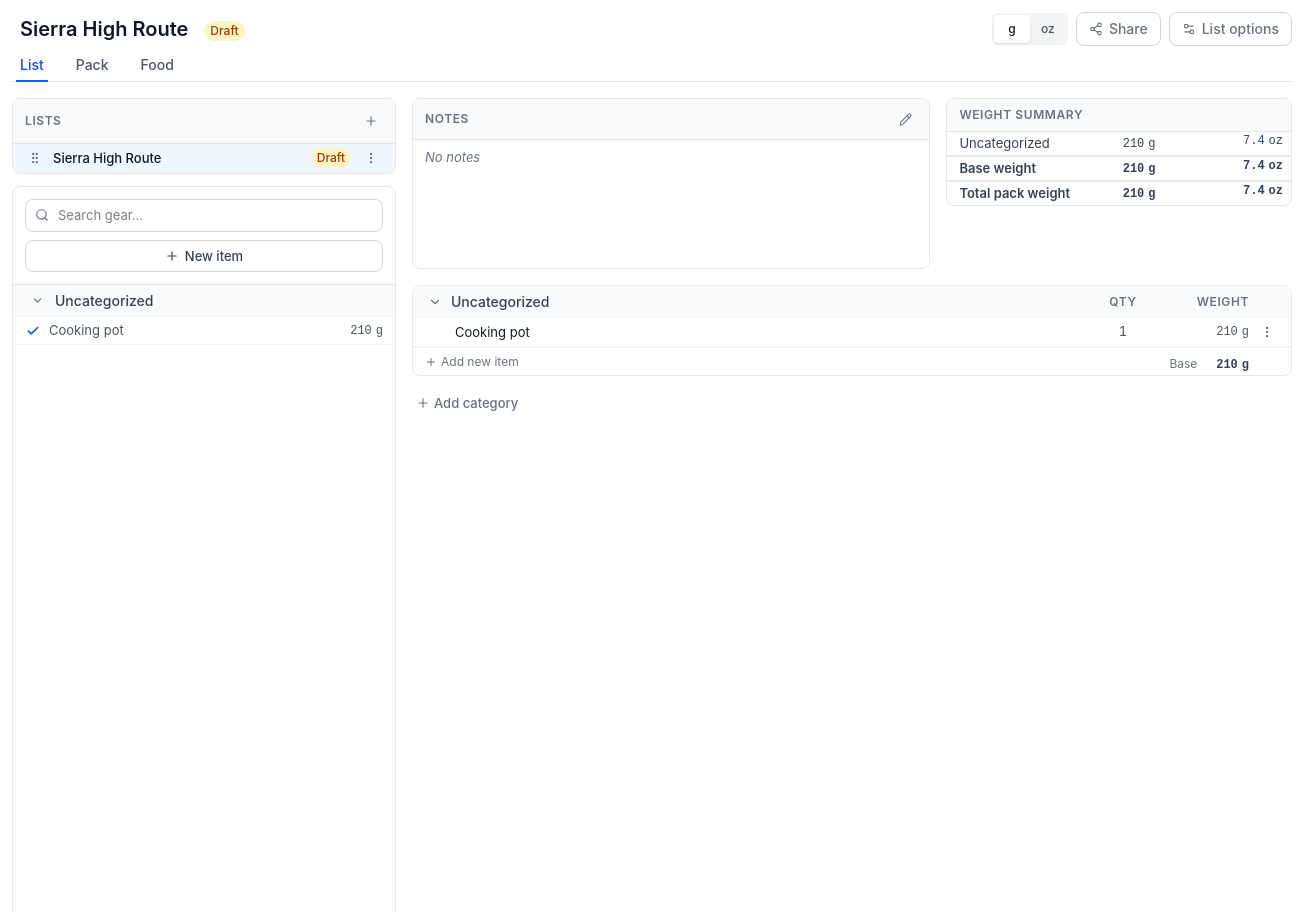
Test: switching views on one list › keeps the page mounted from List to Pack
Expected: the button "Add new item" is shown, [425,354,1033,370]
Click the link "Pack".
click(92, 64)  # box [76,56,109,73]
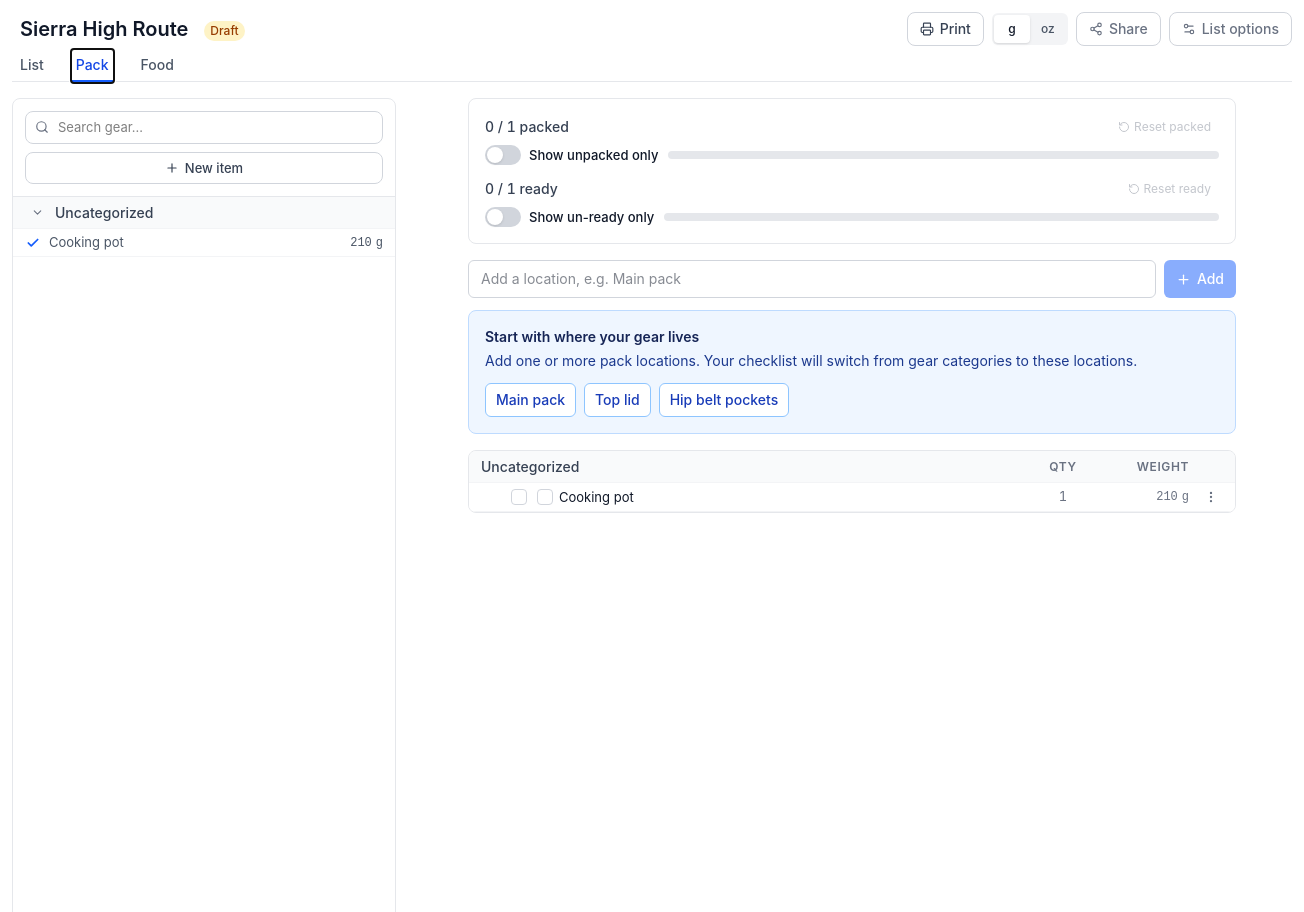
Expected: the field named "New packing location" is shown, [468,260,1156,298]
